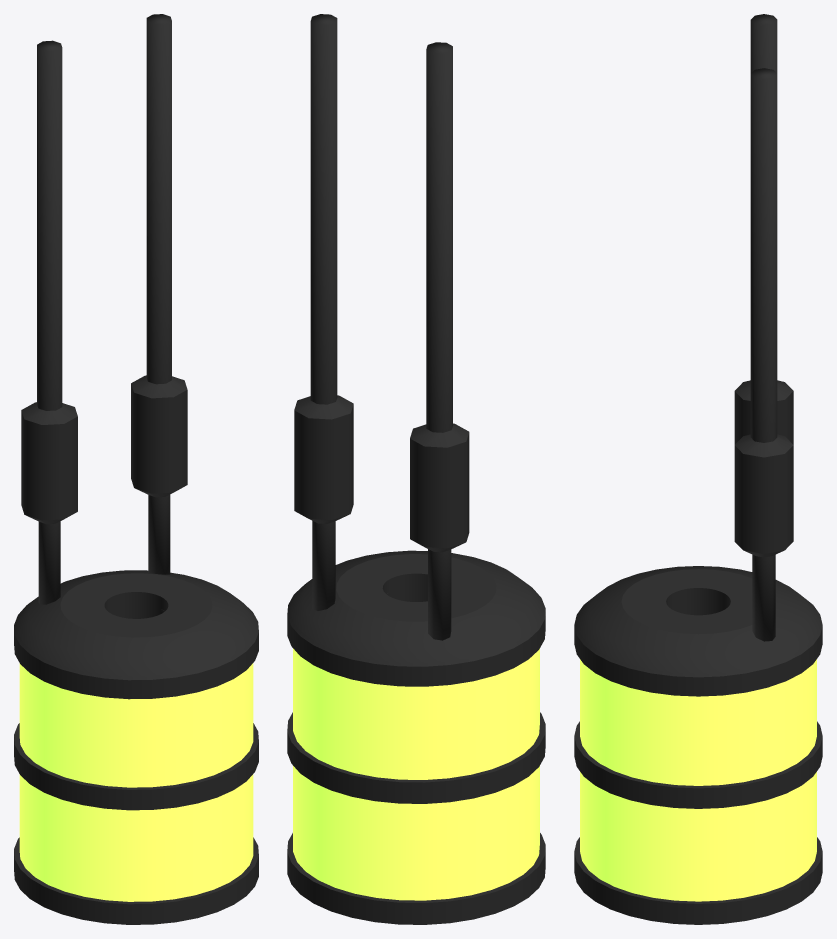
The model's file is tank 1.fbx.
The picture shows the model from 3 angles, left to right: view 1: azimuth 30°, elevation 25°; view 2: azimuth 150°, elevation 25°; view 3: azimuth 270°, elevation 25°; orthographic projection. The views are drawn at different scales.
Visible parts, largest first — view 1: Cylinder; view 2: Cylinder; view 3: Cylinder.
Boxes of the visible parts, x1,y1,x2,y2 form: Cylinder: (14,14,258,924); Cylinder: (287,14,545,924); Cylinder: (574,14,822,924).
Size of the model in its own units: 2.09 by 7.69 by 2.09.
